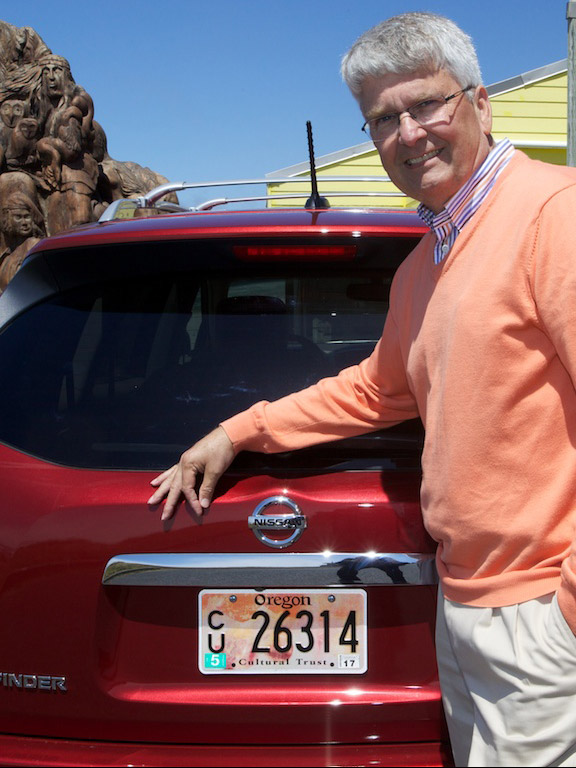license plate: (200, 589, 369, 674)
